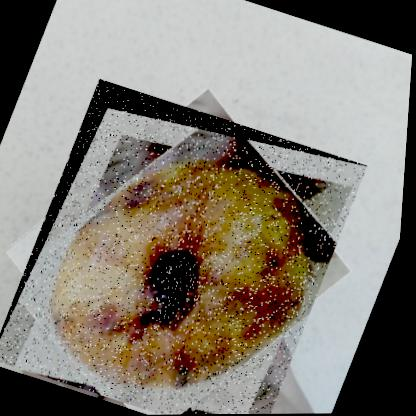guava_rotten: (0, 75, 376, 415)
